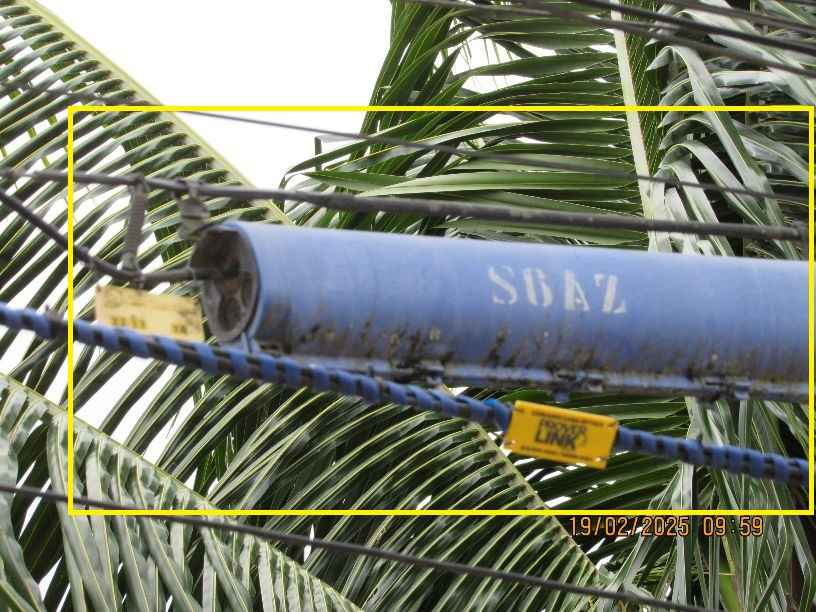18: (171, 204, 807, 401)
fibra_optica: (423, 389, 633, 488)
